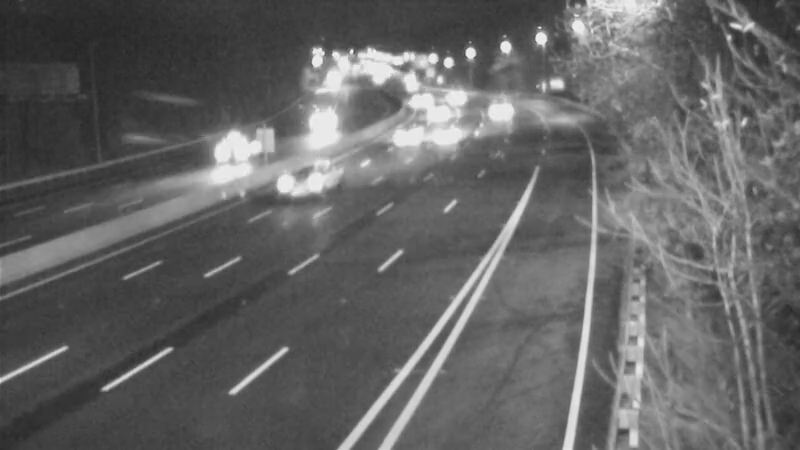vehicle: (265, 148, 345, 228), (197, 112, 277, 192), (427, 71, 477, 121), (395, 75, 445, 125), (475, 87, 525, 137), (414, 86, 464, 136), (425, 110, 475, 160), (377, 112, 427, 162), (303, 99, 353, 149)
